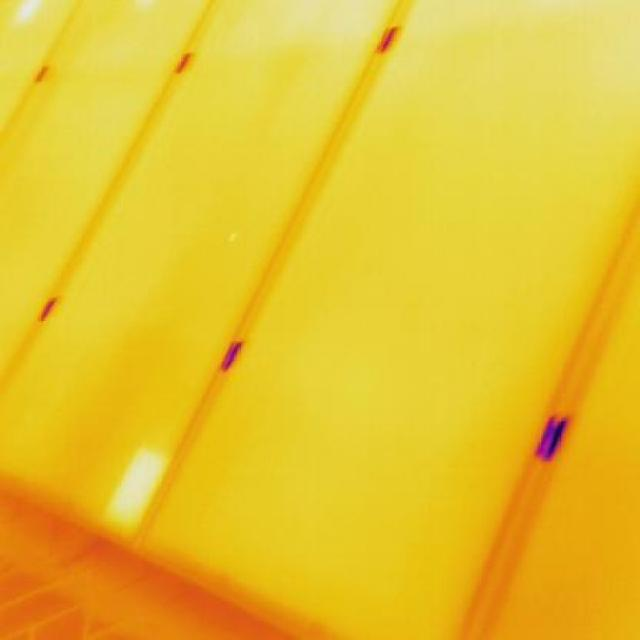hotspot: (98, 441, 176, 536)
